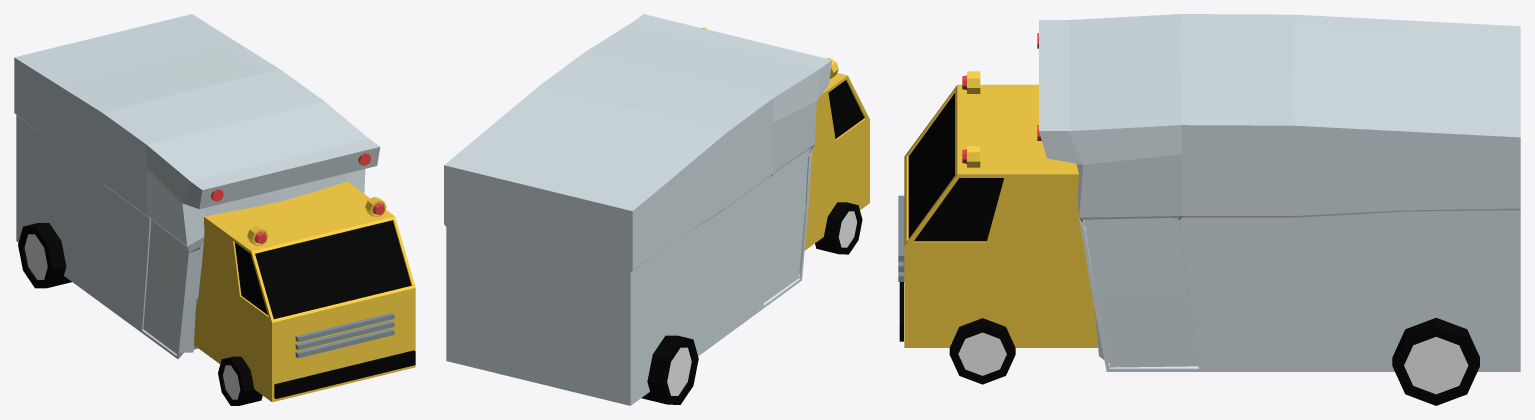
The model's file is RedBus.fbx.
3 views of the same model, side by side, from view 1: azimuth 30°, elevation 25°; view 2: azimuth 150°, elevation 25°; view 3: azimuth 270°, elevation 25° (orthographic). The views are drawn at different scales.
Visible parts, largest first — view 1: Cube.004; view 2: Cube.004; view 3: Cube.004.
Boxes of the visible parts, <box> form: Cube.004: <box>14,14,415,405</box>; Cube.004: <box>444,14,869,405</box>; Cube.004: <box>898,14,1520,405</box>.
Bounding box in the file's own units: 281 × 285 × 586.
1 material, 1 textured.
